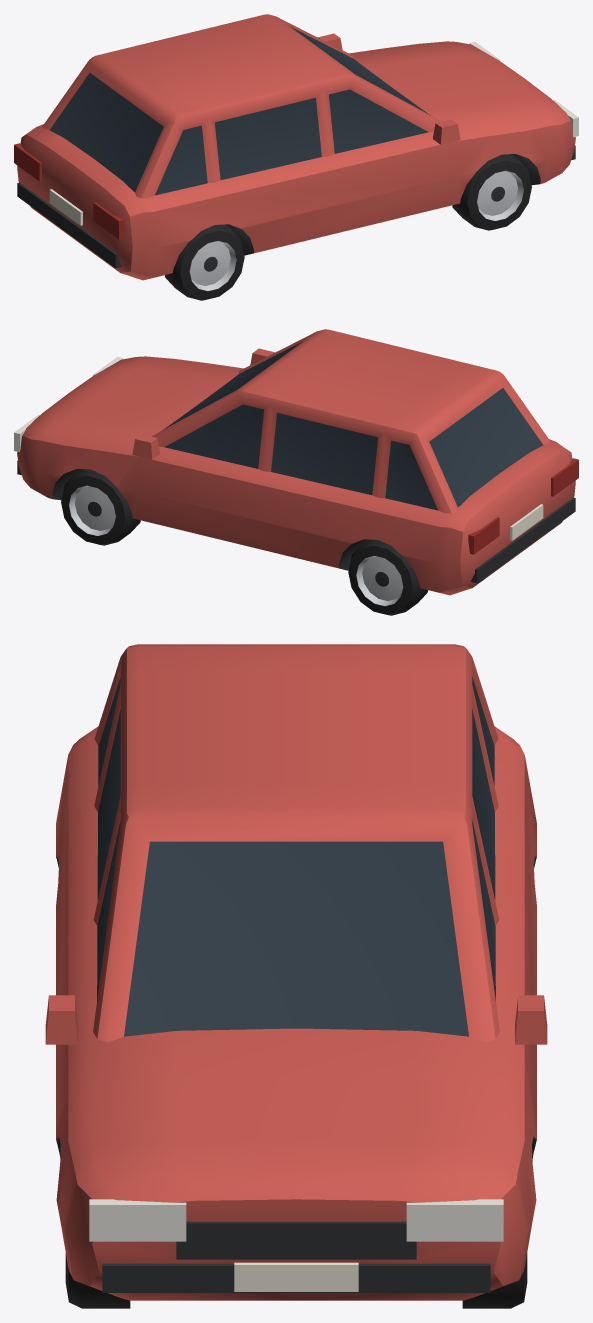
Rendered from hatch.glb.
The picture shows the model from 3 angles, top to bottom: view 1: azimuth 30°, elevation 25°; view 2: azimuth 150°, elevation 25°; view 3: azimuth 270°, elevation 25°; orthographic projection. The views are drawn at different scales.
Visible parts, largest first — view 1: hatch; view 2: hatch; view 3: hatch.
Part boxes in pixels (x1,y1,x2,y2): hatch: [14, 14, 578, 300]; hatch: [14, 329, 578, 615]; hatch: [45, 644, 547, 1308].
Size of the model in its own units: 3.96 by 1.46 by 1.86.
